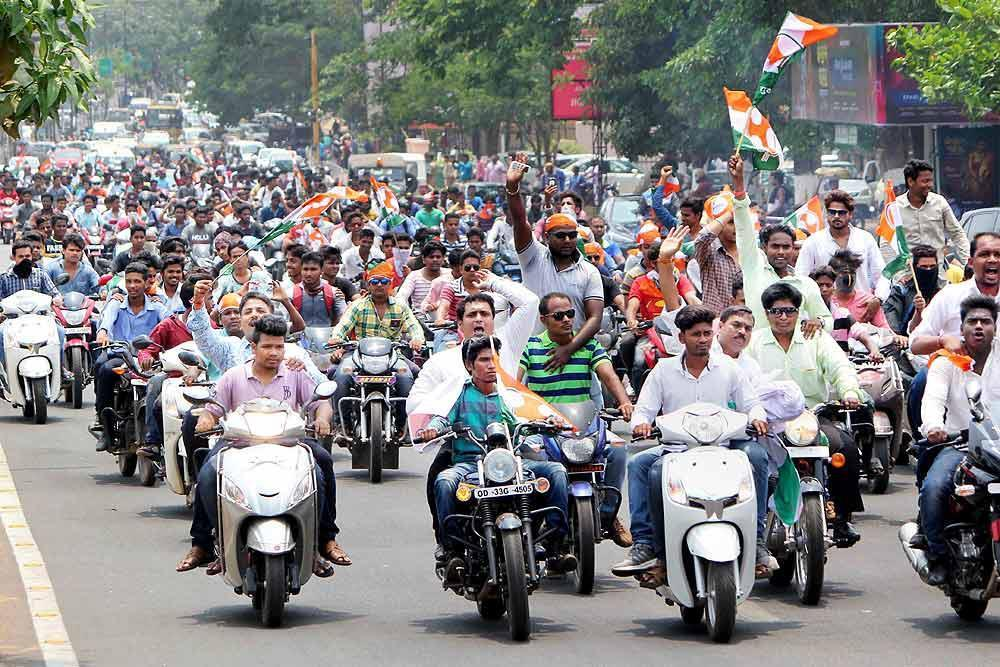motorcycle: (618, 376, 788, 662), (393, 411, 576, 639), (170, 372, 334, 625), (760, 384, 880, 603), (308, 328, 432, 480), (1, 268, 63, 430)
